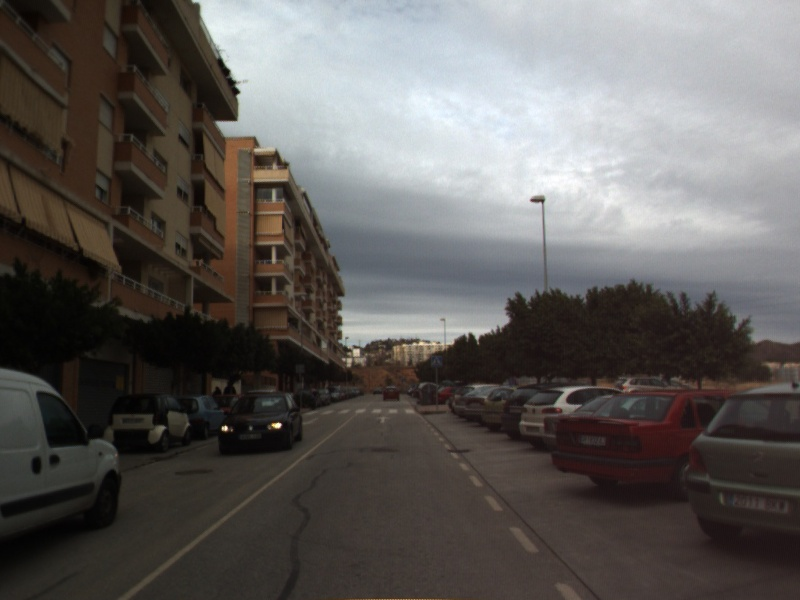STRAIGHT: (374, 414, 393, 425)
